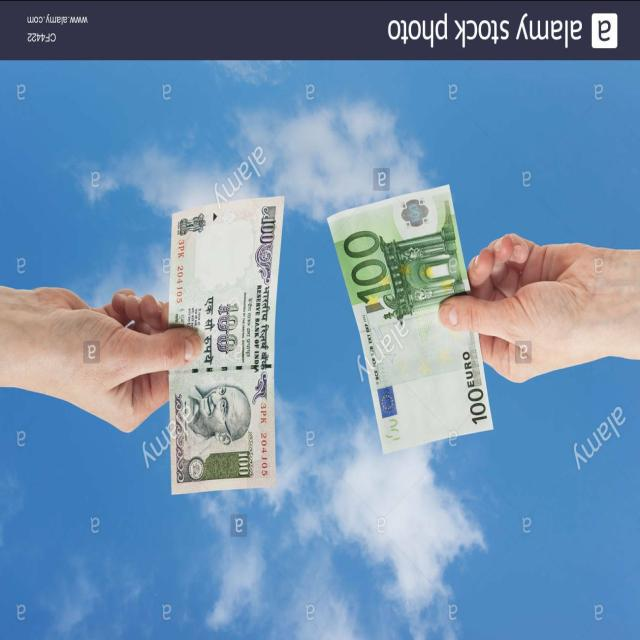100IndianRupees: (172, 196, 286, 495)
